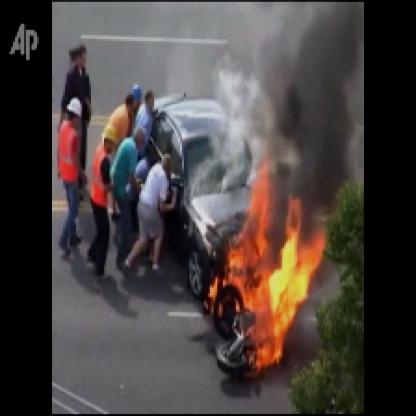Fire: (204, 139, 327, 383)
Smoke: (260, 2, 360, 210)
